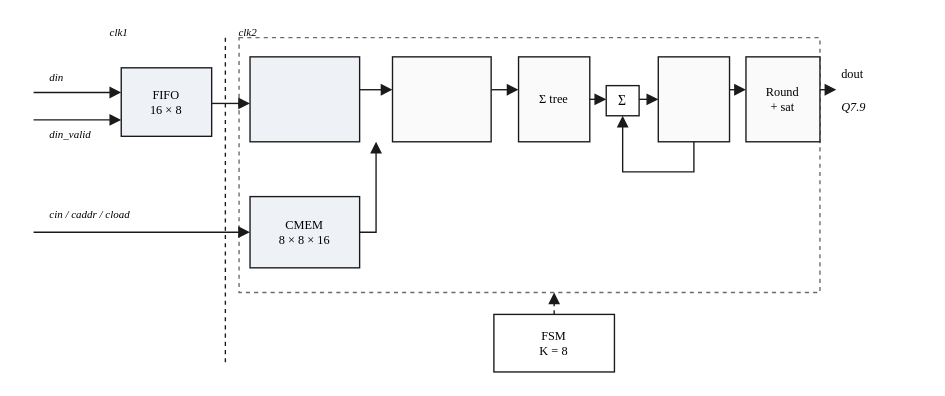
The diagram is 945 pixels wide and 396 high, and some of its shapes have lost their labels. The shapes that lost their labels are listed below. From the top down, each one's centre as x and y in pixels, then its label:
At point (304, 98): "Window 8 × 8 × 16".
At point (441, 98): "MAC × 8 Q2.18".
At point (693, 98): "ACC 32 b".
